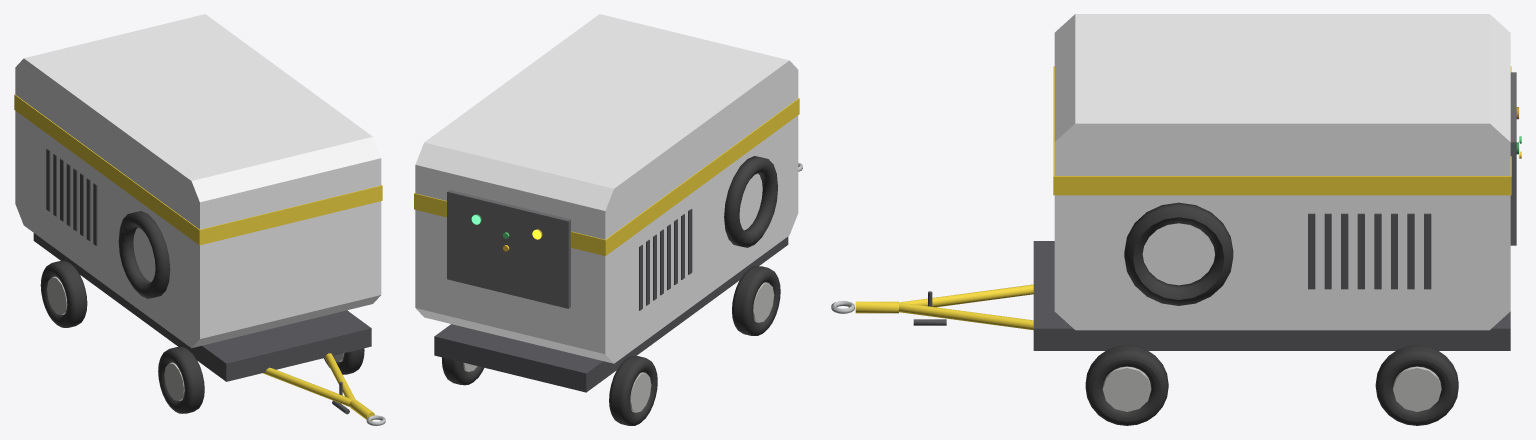
The model's file is GroundPowerUnit.glb.
3 views of the same model, side by side, from view 1: azimuth 30°, elevation 25°; view 2: azimuth 150°, elevation 25°; view 3: azimuth 270°, elevation 25° (orthographic). The views are drawn at different scales.
Visible parts, largest first — view 1: Body, Wheel_FR, Wheel_RR, Drawbar, Wheel_FL; view 2: Body, Wheel_RR, Wheel_FR, Wheel_RL; view 3: Body, Wheel_RL, Wheel_FL, Drawbar.
Boxes of the visible parts, x1=… form: Body: x1=14, y1=14, x2=382, y2=381; Wheel_FR: x1=158, y1=347, x2=204, y2=413; Wheel_RR: x1=40, y1=261, x2=87, y2=327; Drawbar: x1=262, y1=353, x2=385, y2=425; Wheel_FL: x1=324, y1=311, x2=364, y2=374; Body: x1=414, y1=14, x2=799, y2=392; Wheel_RR: x1=609, y1=356, x2=657, y2=425; Wheel_FR: x1=732, y1=266, x2=780, y2=335; Wheel_RL: x1=442, y1=357, x2=483, y2=385; Body: x1=1033, y1=14, x2=1518, y2=350; Wheel_RL: x1=1375, y1=345, x2=1458, y2=425; Wheel_FL: x1=1085, y1=345, x2=1168, y2=425; Drawbar: x1=831, y1=284, x2=1033, y2=330.
Size of what is drawn, in the model's own units: 1.42 by 1.63 by 3.33.
